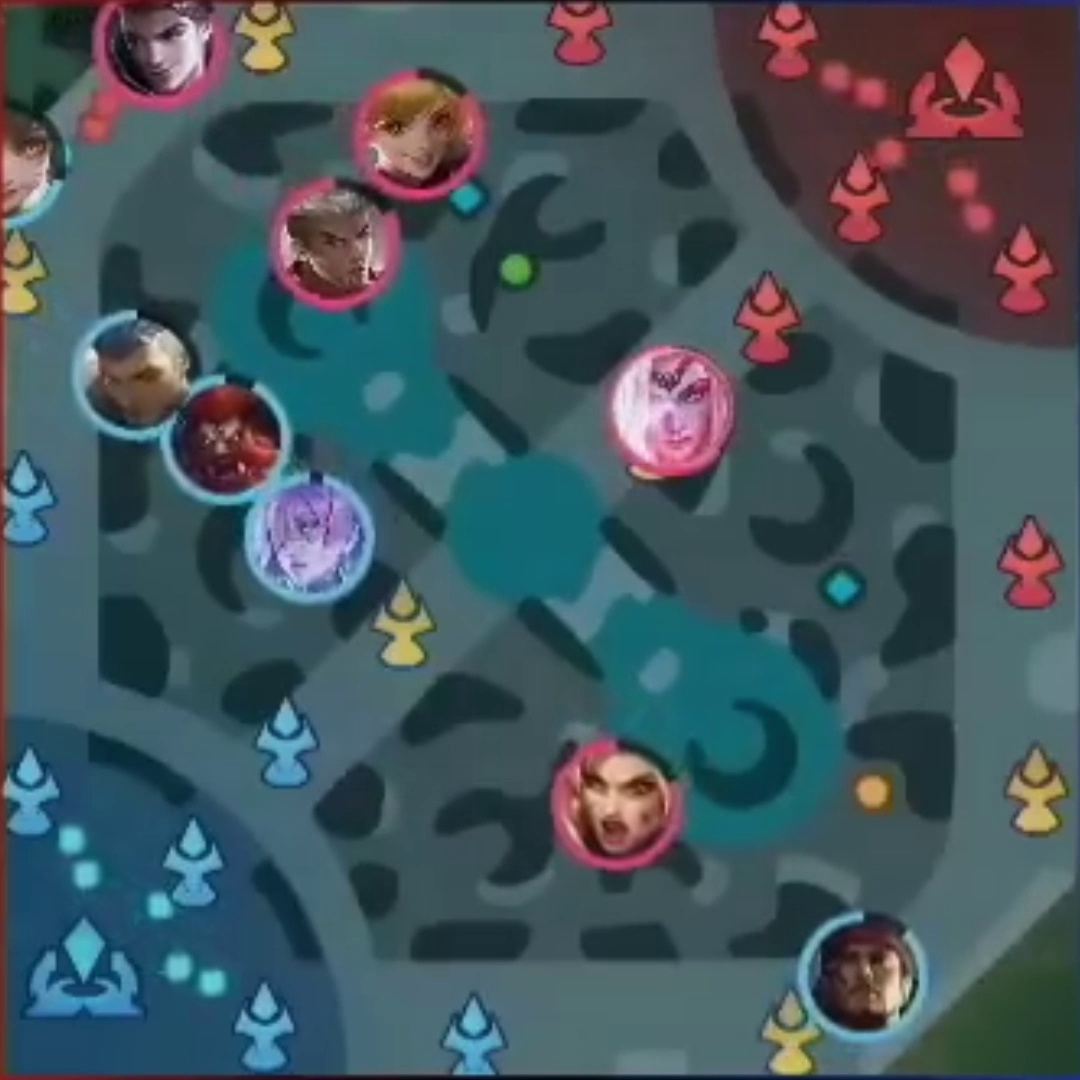Chou: (282, 187, 390, 297)
Claude: (104, 1, 218, 104)
Fanny: (359, 77, 472, 187)
Fredrinn: (78, 320, 186, 423)
Lapu-Lapu: (809, 914, 916, 1031)
Masha: (564, 750, 672, 868)
Minotaur: (182, 388, 275, 491)
Novaria: (256, 499, 358, 596)
Valentina: (622, 350, 727, 464)
Wanwan: (1, 108, 65, 225)
